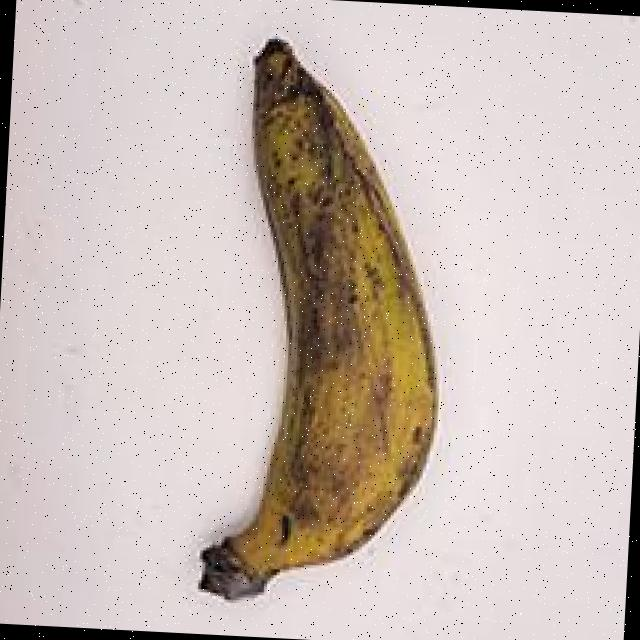Overripe: (121, 13, 498, 638)
